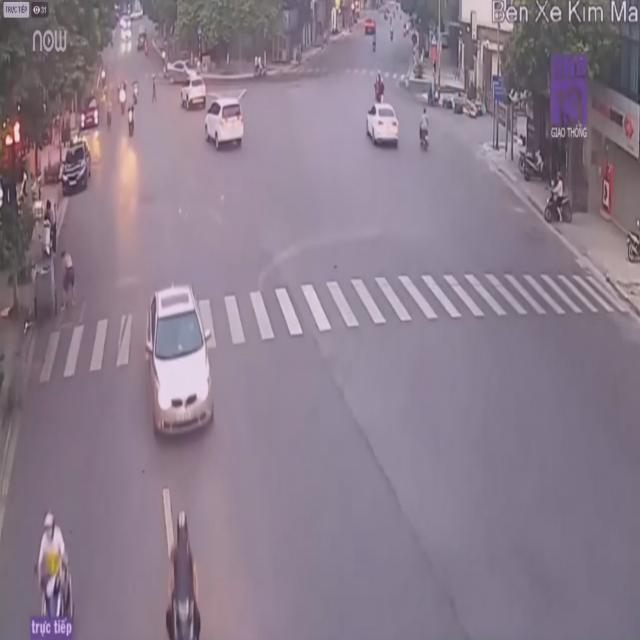car: (146, 282, 218, 441), (203, 95, 246, 158), (366, 102, 402, 153)
motorbike: (21, 510, 75, 639), (163, 513, 206, 640), (544, 172, 572, 227), (418, 106, 432, 152)
